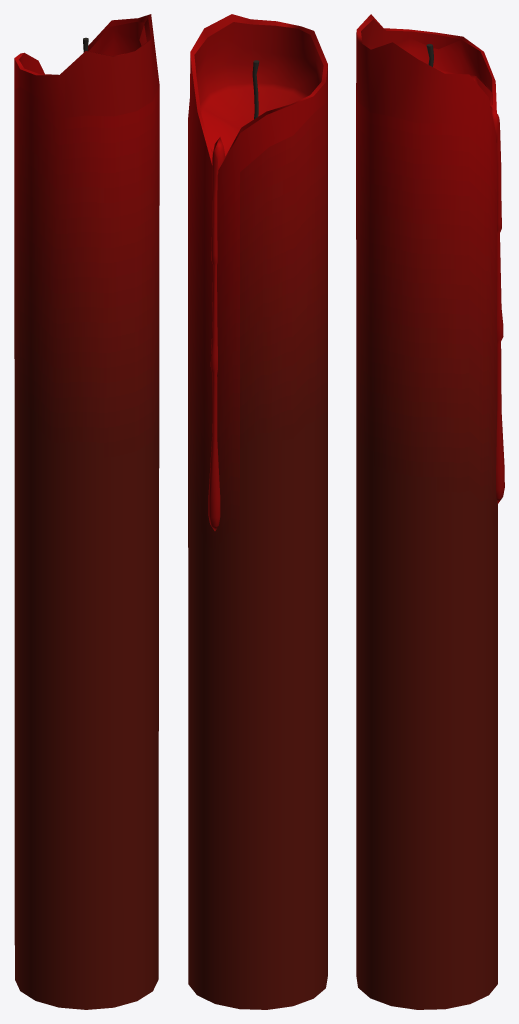
Rendered from candle_tall.fbx.
3 views of the same model, side by side, from view 1: azimuth 30°, elevation 25°; view 2: azimuth 150°, elevation 25°; view 3: azimuth 270°, elevation 25° (orthographic). The views are drawn at different scales.
Visible parts, largest first — view 1: pasted__polySurface38; view 2: pasted__polySurface38; view 3: pasted__polySurface38.
Part boxes in pixels (x1,y1,x2,y2): pasted__polySurface38: (14, 14, 159, 1009); pasted__polySurface38: (188, 14, 327, 1009); pasted__polySurface38: (356, 14, 504, 1009).
Size of the model in its own units: 0.285 by 2.1 by 0.2952.
